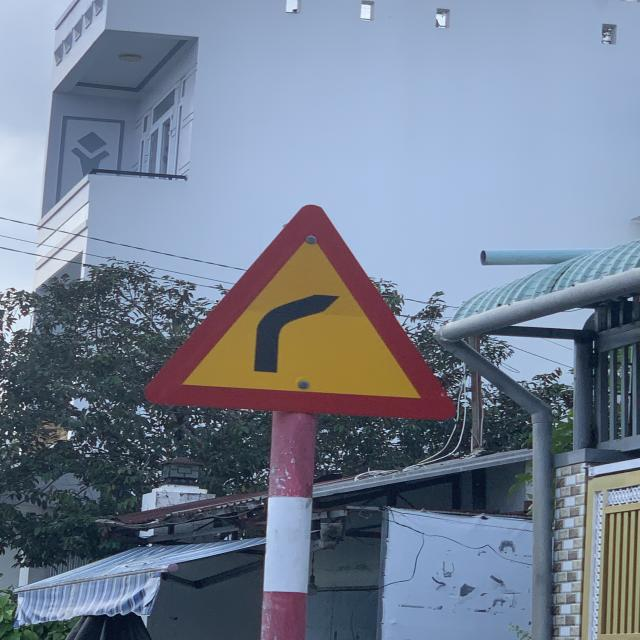Duong_Nguoi_Di_Bo_Cat_Ngang: (145, 205, 461, 420)
